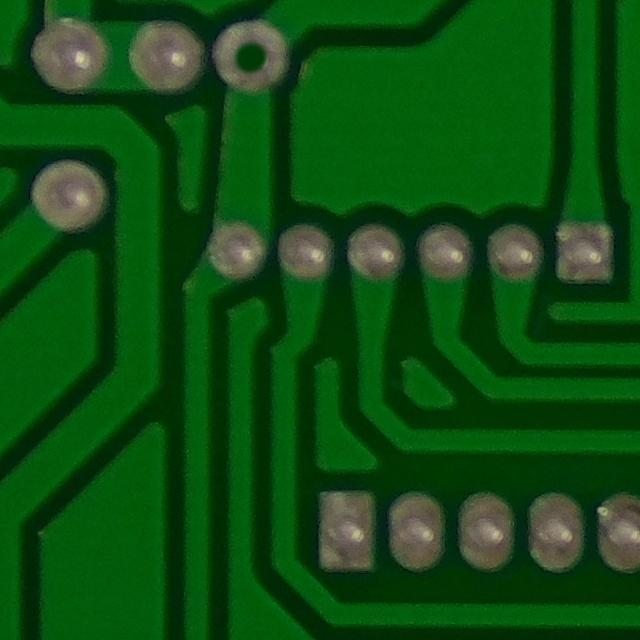missing_hole: (197, 13, 304, 101)
